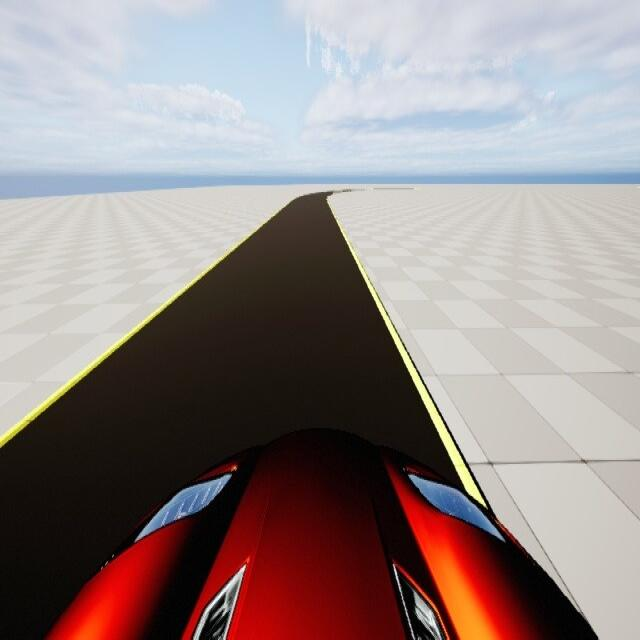lane: (0, 193, 464, 639)
